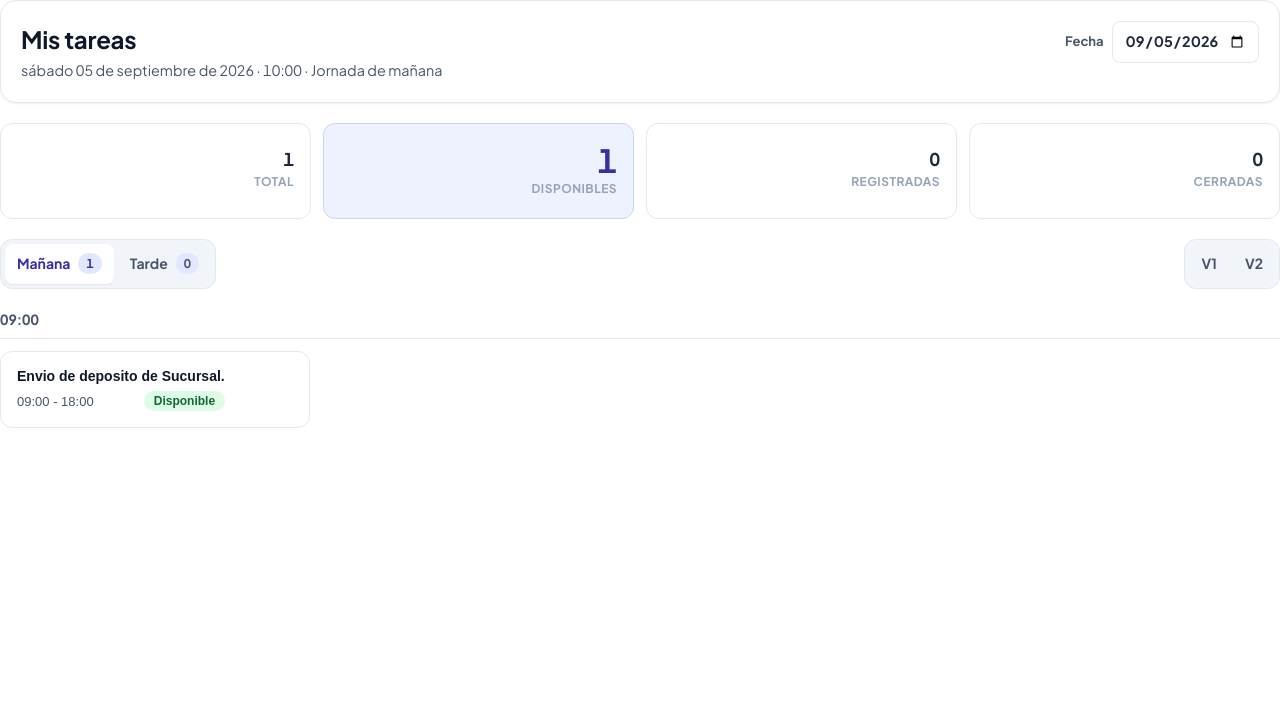
MisTareasPage deposit demonstrations › renders a V2 deposit task as a semantic direct-open button
Click the button with aria-label "Abrir registro de depósito: Envio de deposito de Sucursal.": (155, 390) x1=0 y1=351 x2=310 y2=428
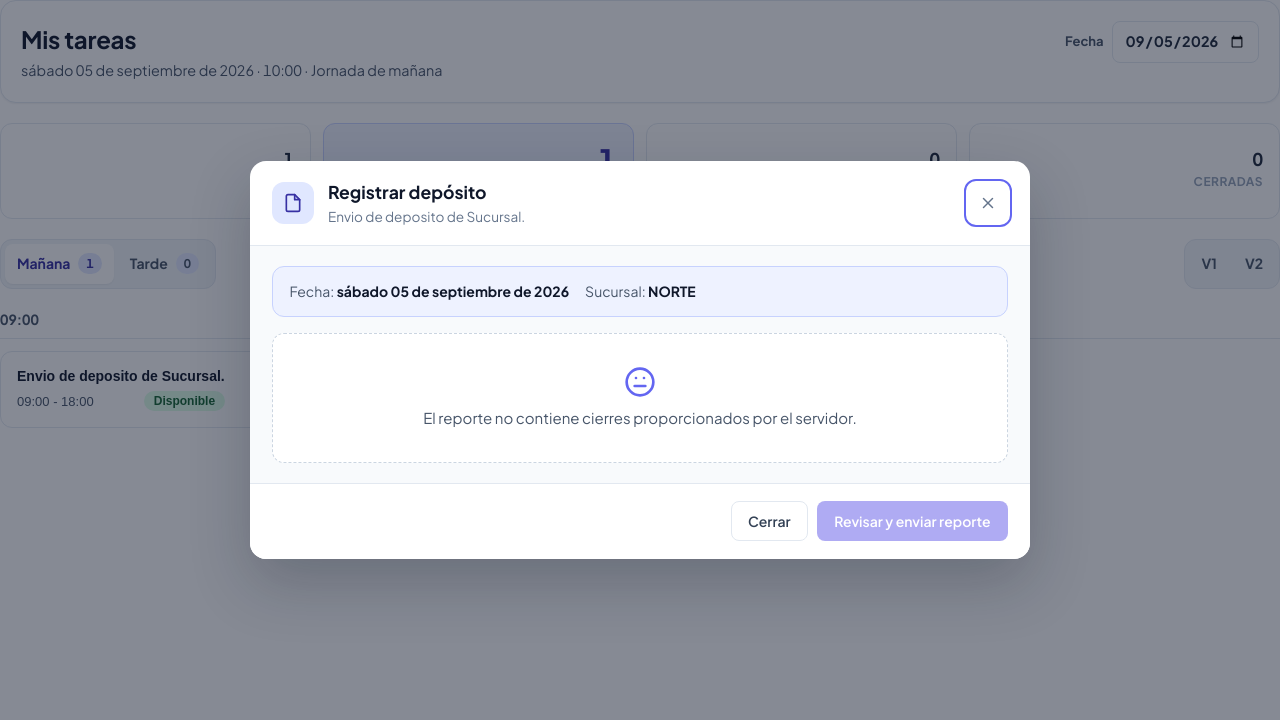
Now the dialog "Registrar depósito" is shown, box x1=250 y1=161 x2=1030 y2=559
